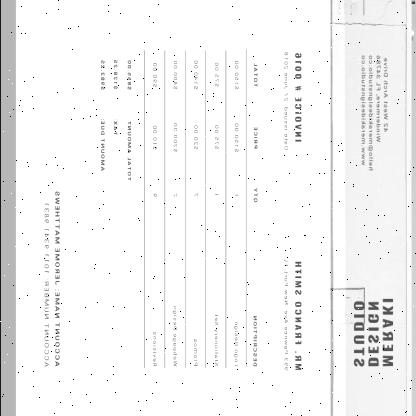Paragraph: (96, 54, 136, 184), (358, 52, 390, 174), (40, 189, 61, 369), (352, 296, 394, 370), (280, 255, 303, 374), (280, 49, 303, 153)
Table: (142, 49, 262, 370)
